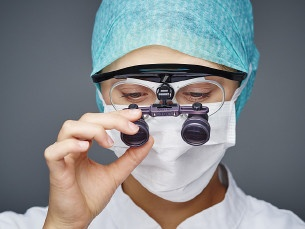Mask: (102, 61, 239, 198)
